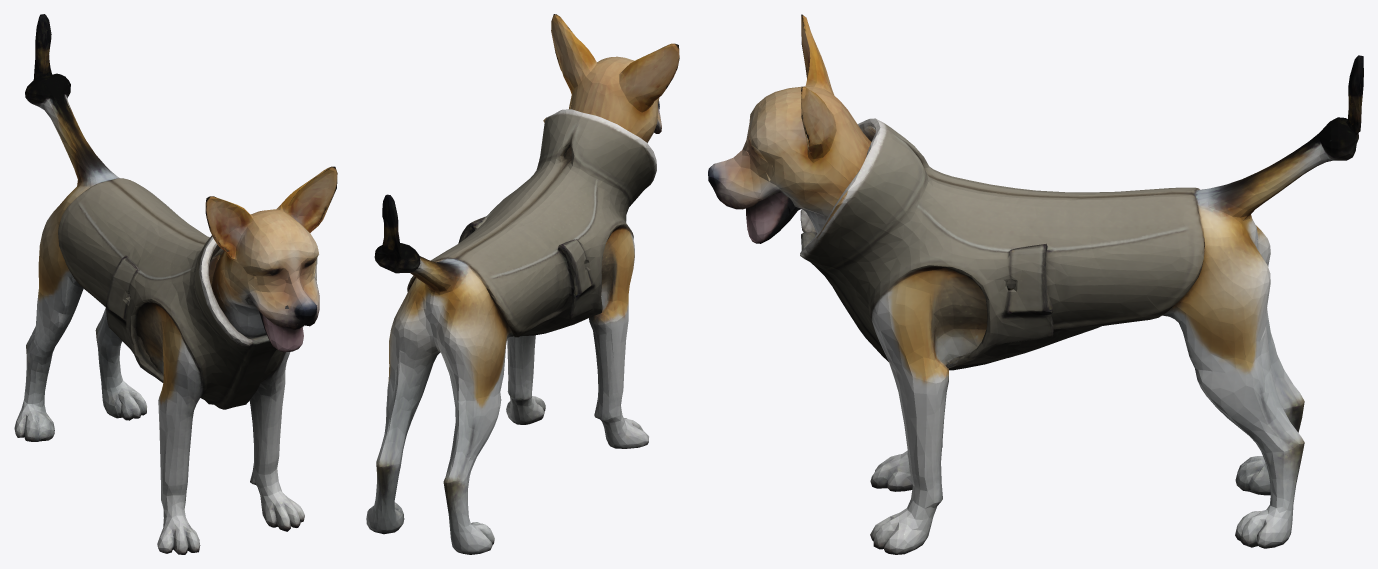
File: aspin with coat.glb
The picture shows the model from 3 angles, left to right: view 1: azimuth 30°, elevation 25°; view 2: azimuth 150°, elevation 25°; view 3: azimuth 270°, elevation 25°; orthographic projection. The views are drawn at different scales.
Visible parts, largest first — view 1: world; view 2: world; view 3: world.
Boxes of the visible parts, x1,y1,x2,y2 form: world: [14, 14, 337, 554]; world: [366, 14, 679, 554]; world: [708, 14, 1363, 554].
Size of the model in its own units: 0.3087 by 0.7799 by 0.9989.
1 material, 1 textured.
